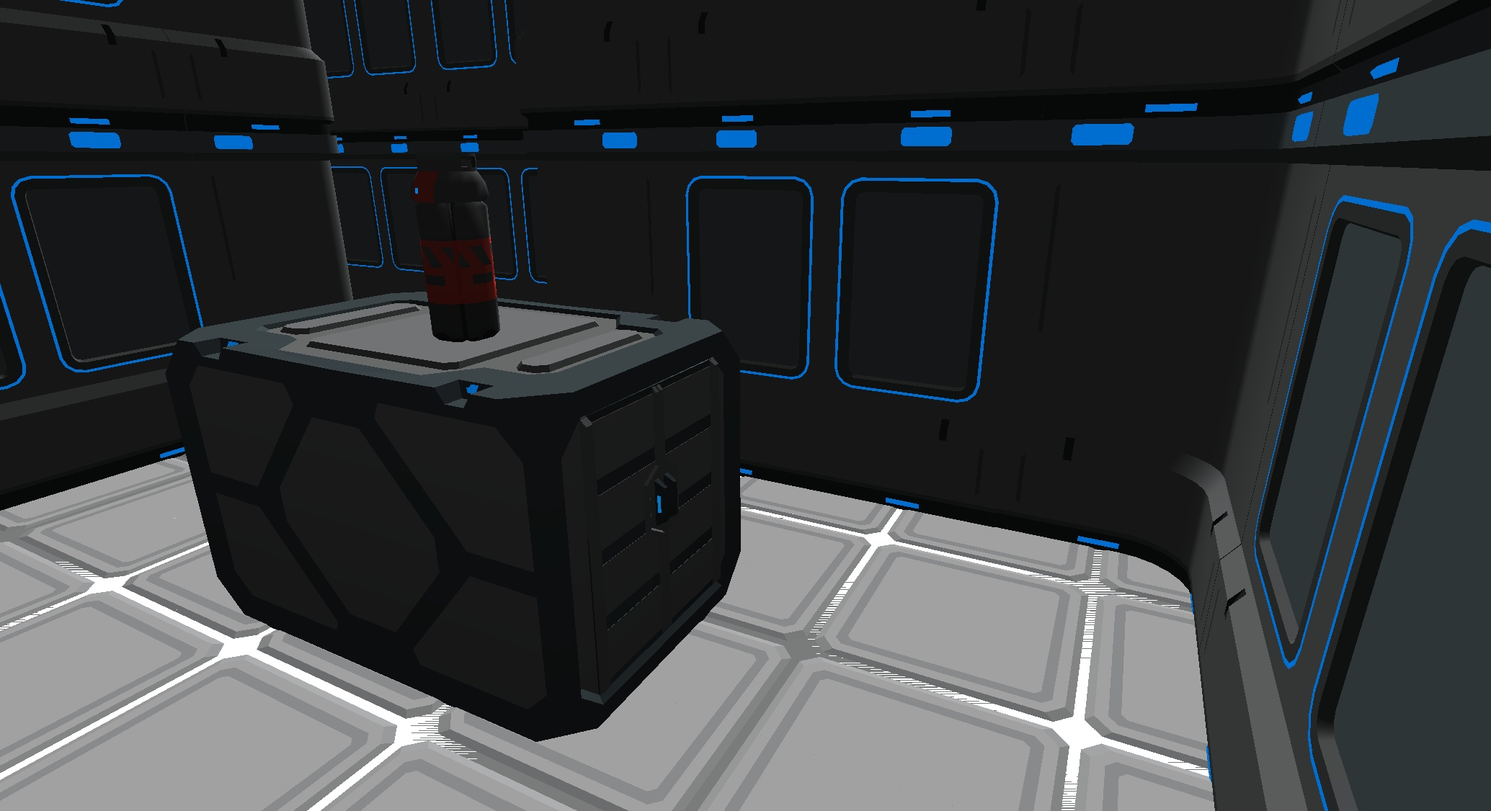red_barrel: (413, 158, 499, 341)
